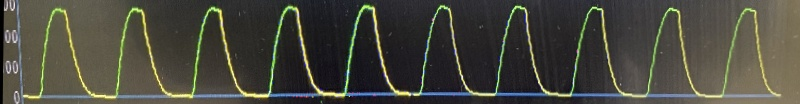normal_volume: (14, 0, 797, 104)
